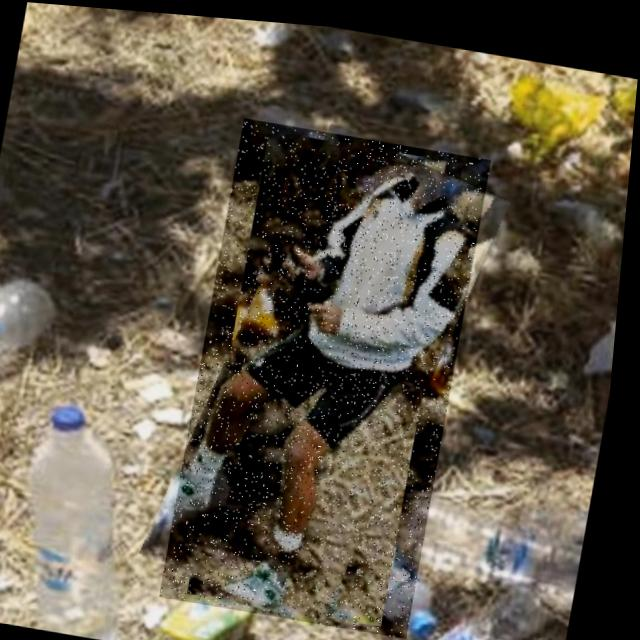Person in Rubble: (168, 110, 494, 633)
